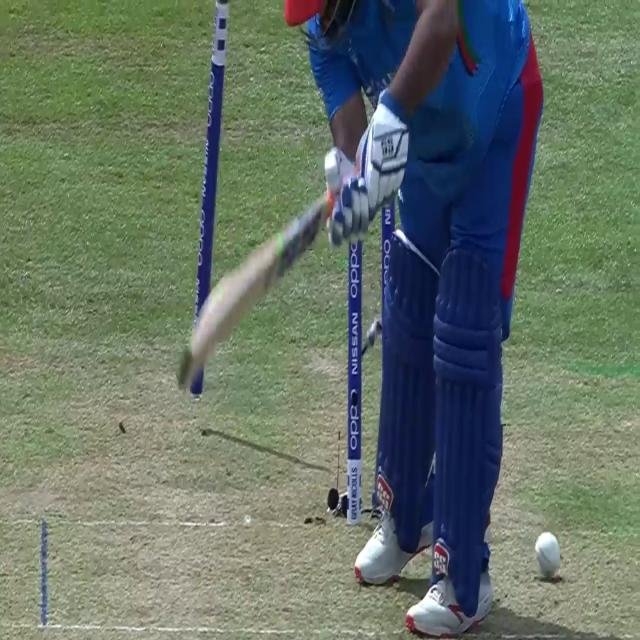ball: (534, 529, 562, 582)
